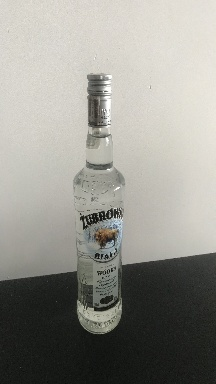butelka: (71, 69, 126, 337)
